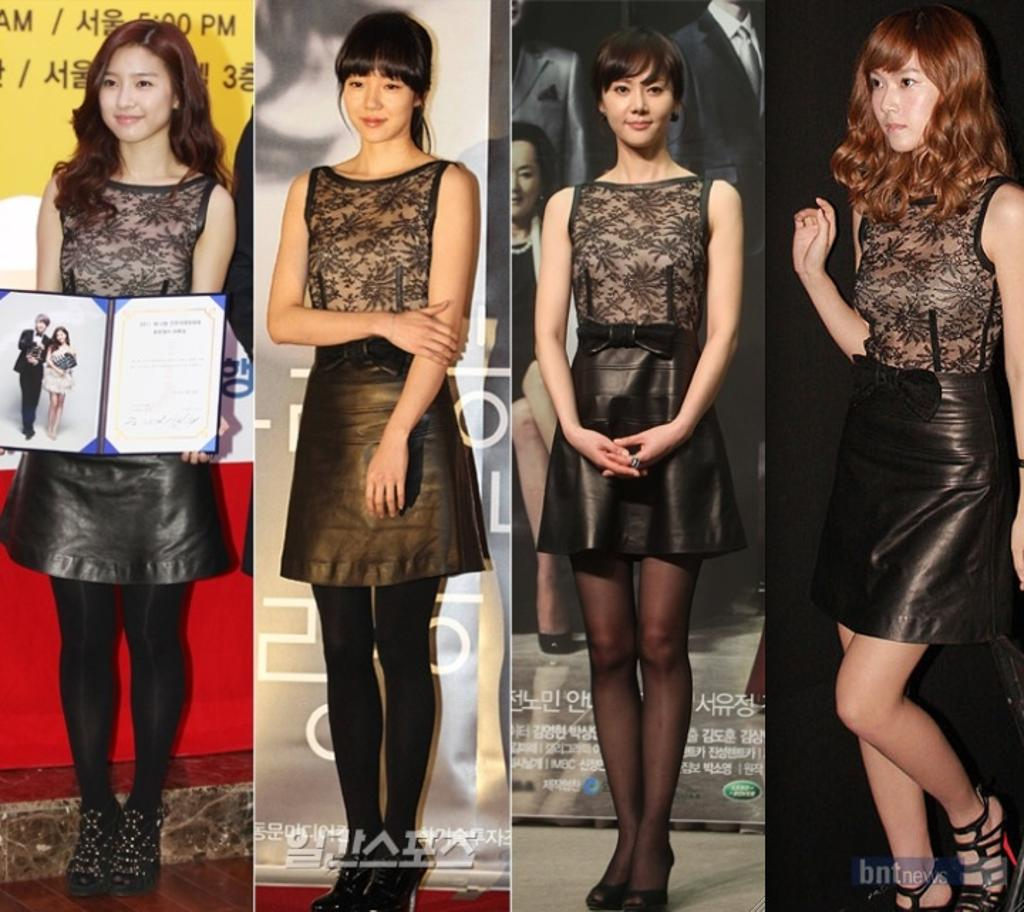face: (871, 56, 944, 150), (99, 53, 172, 140), (602, 64, 674, 145), (343, 61, 412, 140), (491, 143, 538, 217), (56, 332, 66, 343), (36, 321, 45, 332)
